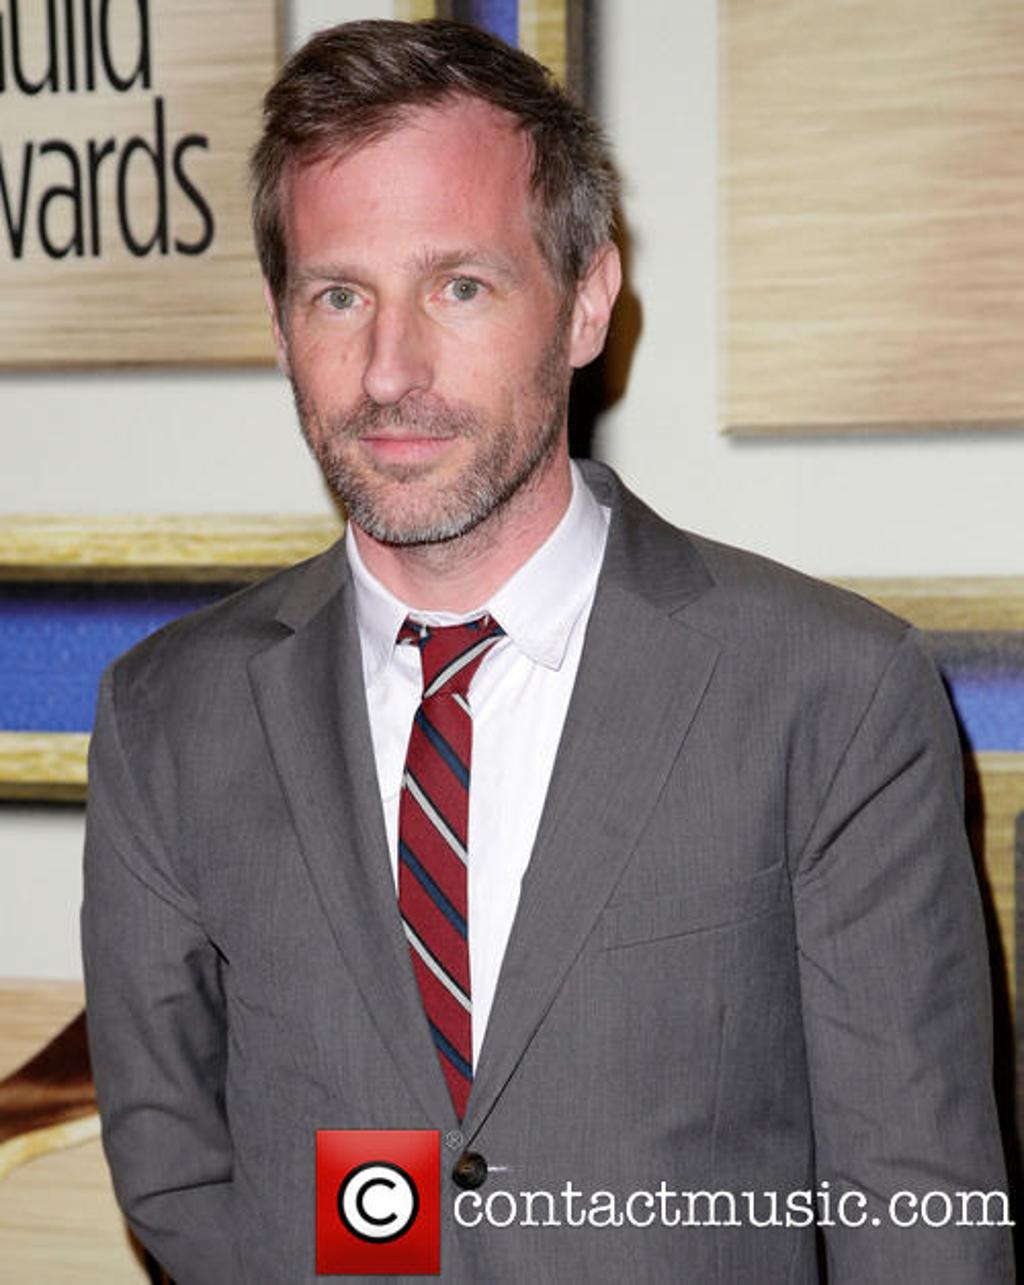face: (281, 100, 572, 542)
